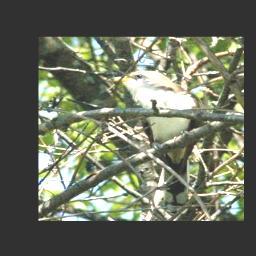Cuckoo: (105, 70, 207, 212)
